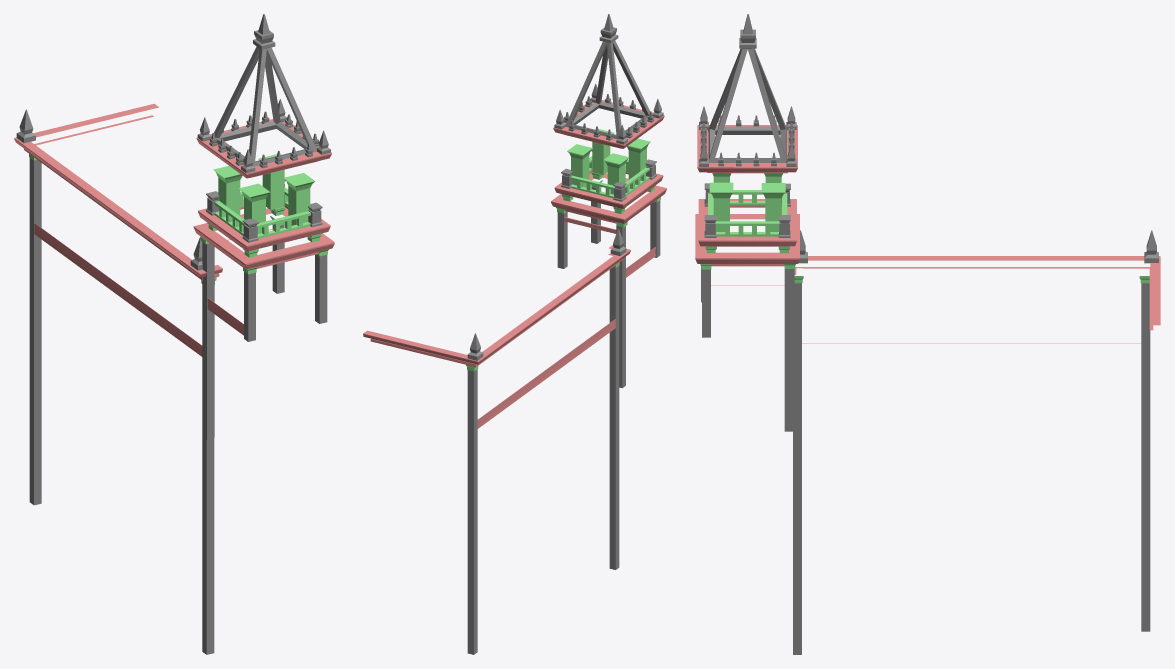
Rendered from S_Envi_Fyz_BuildingMerge_04g.gltf.
The picture shows the model from 3 angles, left to right: view 1: azimuth 30°, elevation 25°; view 2: azimuth 150°, elevation 25°; view 3: azimuth 270°, elevation 25°; orthographic projection. The views are drawn at different scales.
Visible parts, largest first — view 1: S_Envi_Fyz_BuildingMerge_04g; view 2: S_Envi_Fyz_BuildingMerge_04g; view 3: S_Envi_Fyz_BuildingMerge_04g.
Part boxes in pixels (box(x1,y1,x2,y2)): S_Envi_Fyz_BuildingMerge_04g: box(14, 14, 334, 654); S_Envi_Fyz_BuildingMerge_04g: box(363, 14, 666, 654); S_Envi_Fyz_BuildingMerge_04g: box(695, 14, 1160, 654).
Size of the model in its own units: 9.19 by 40.51 by 26.11.
